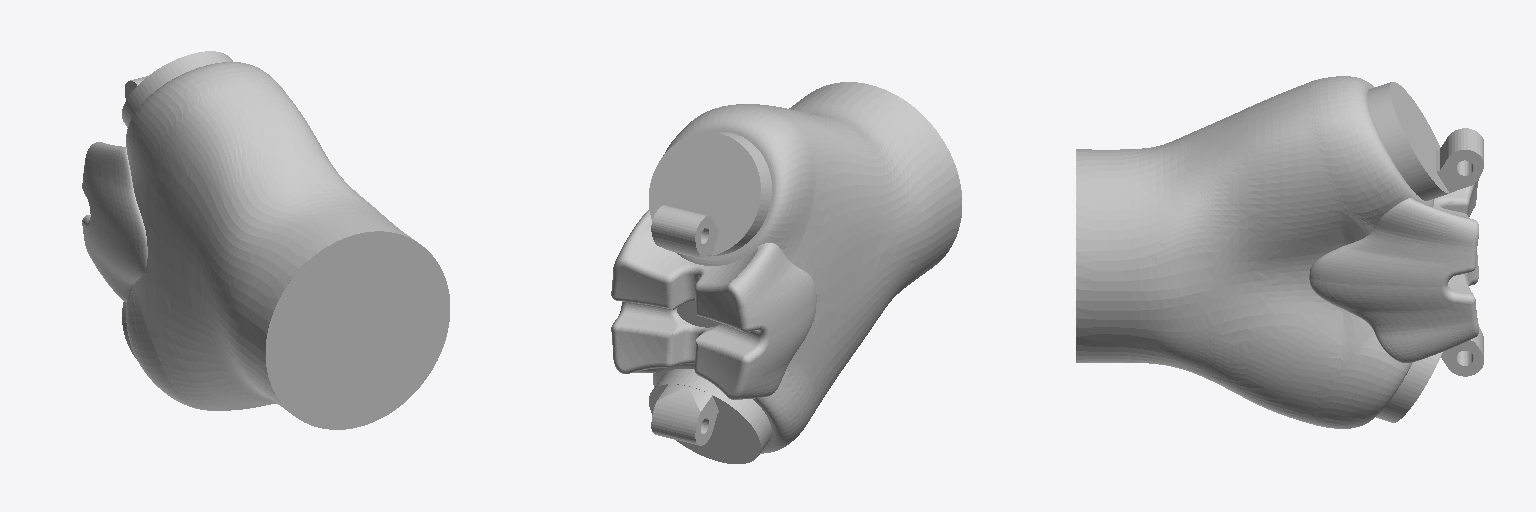
File: hand_2finger.obj
The picture shows the model from 3 angles: view 1: azimuth 30°, elevation 25°; view 2: azimuth 150°, elevation 25°; view 3: azimuth 270°, elevation 25°; orthographic projection.
Size of the model in its own units: 0.063 by 0.1085 by 0.1204.